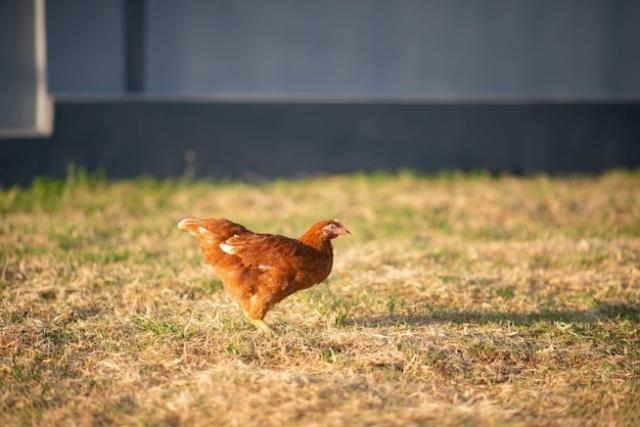Chicken: (178, 218, 350, 329)
